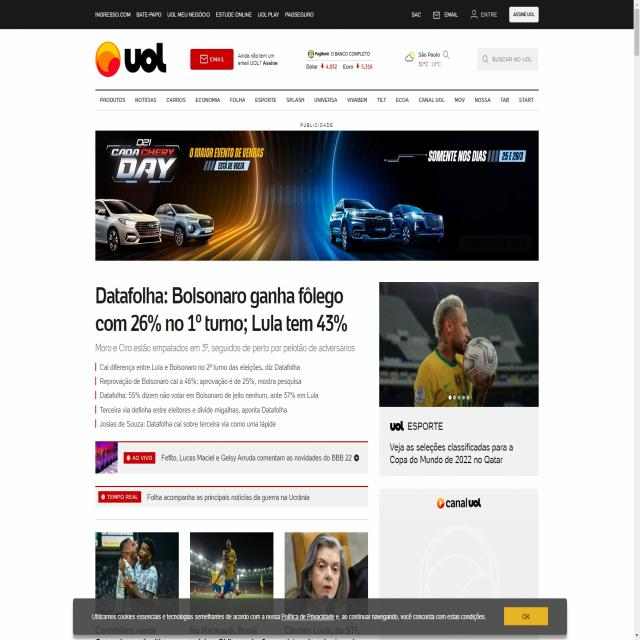menu-bar: (96, 88, 540, 109)
search: (474, 44, 540, 72)
